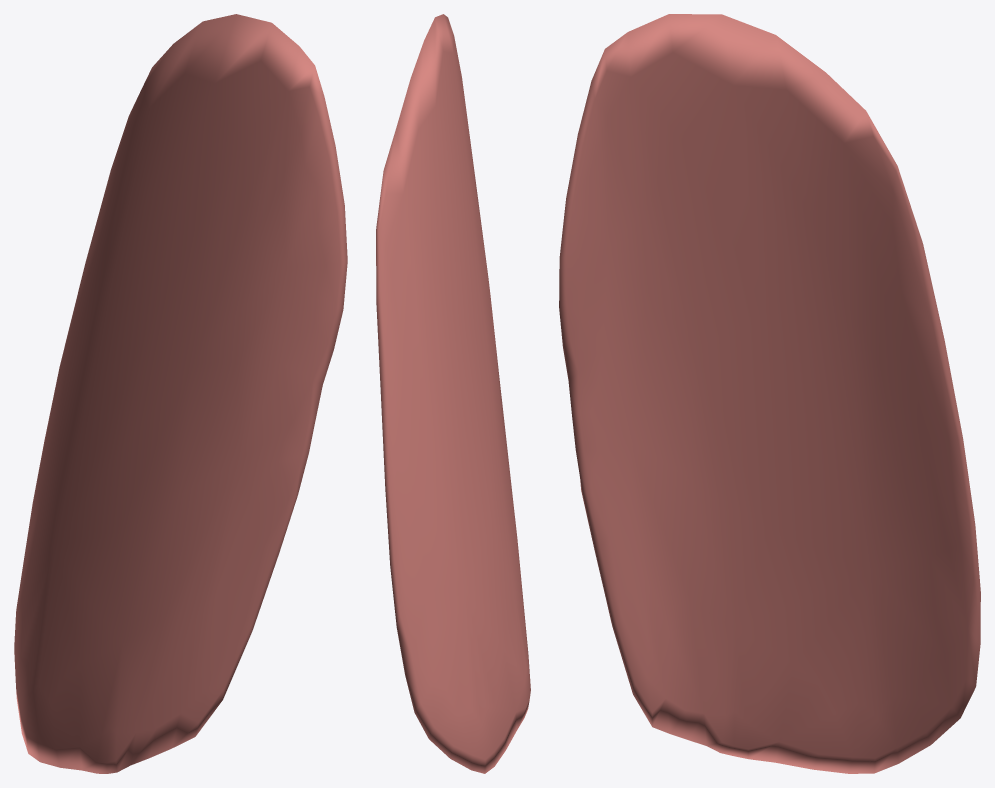
The picture shows the model from 3 angles, left to right: view 1: azimuth 30°, elevation 25°; view 2: azimuth 150°, elevation 25°; view 3: azimuth 270°, elevation 25°; orthographic projection. The views are drawn at different scales.
Visible parts, largest first — view 1: ZA_ca4b9c5d8b2ada32; view 2: ZA_ca4b9c5d8b2ada32; view 3: ZA_ca4b9c5d8b2ada32.
Part boxes in pixels (bbox=[...]): ZA_ca4b9c5d8b2ada32: bbox=[14, 14, 347, 773]; ZA_ca4b9c5d8b2ada32: bbox=[376, 14, 530, 773]; ZA_ca4b9c5d8b2ada32: bbox=[559, 14, 980, 773].
Bounding box in the file's own units: 0.0101 × 0.0413 × 0.0188.
